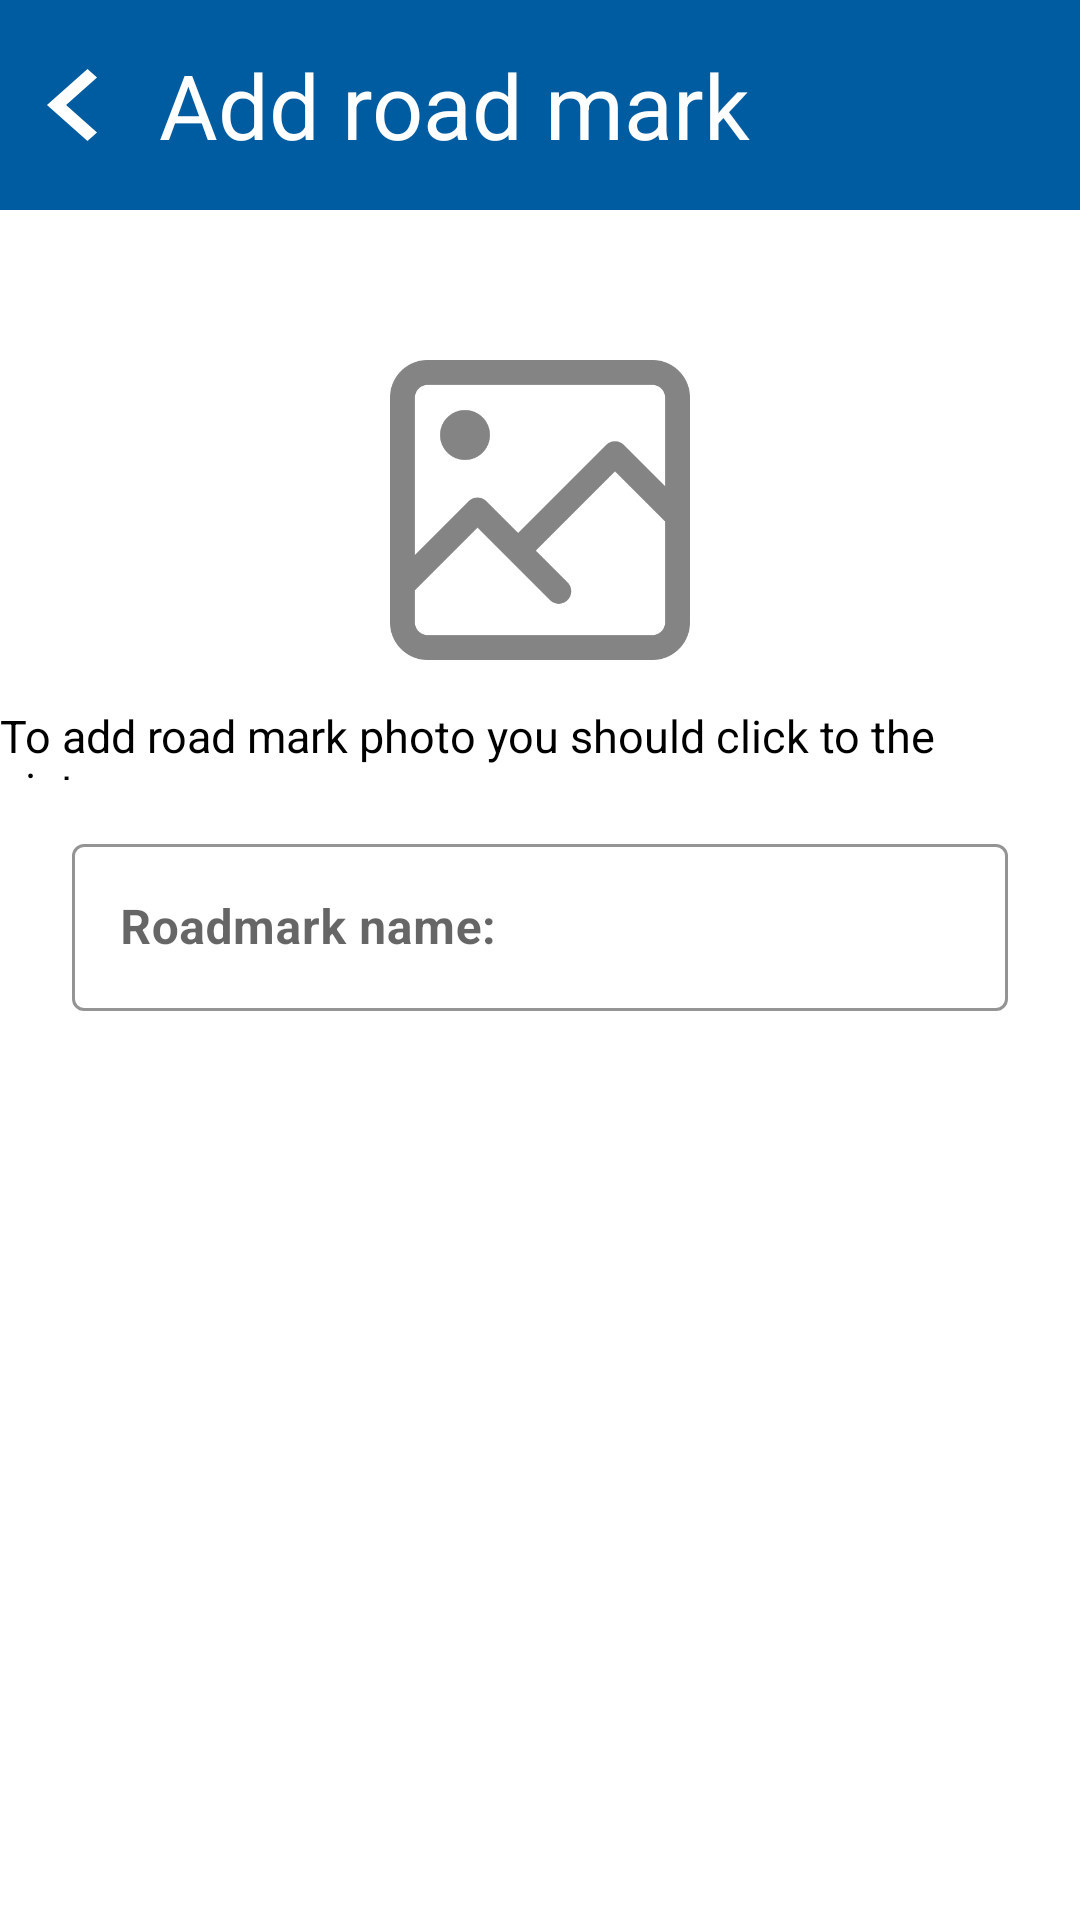

Icon click points for this 1080×1920 phone screenshot, format (x=x, y=y):
galereya: (x=540, y=510)
orqga belgi qoshish: (x=72, y=105)
